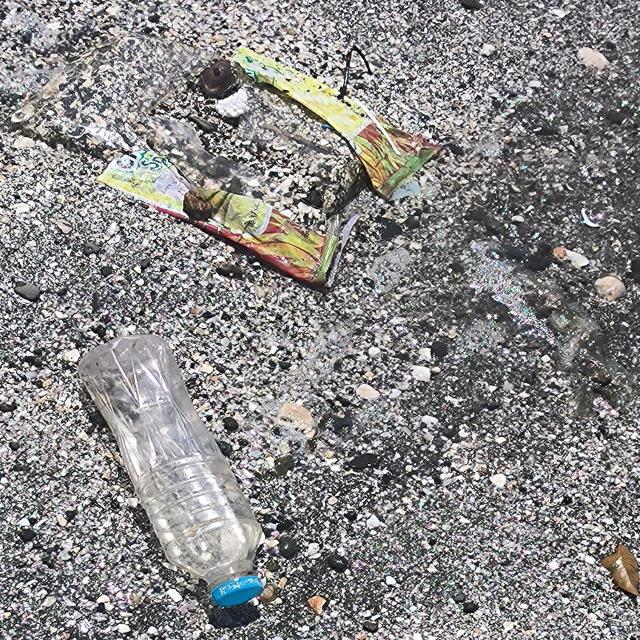plastic_waste: (95, 44, 448, 292), (77, 333, 267, 609)
